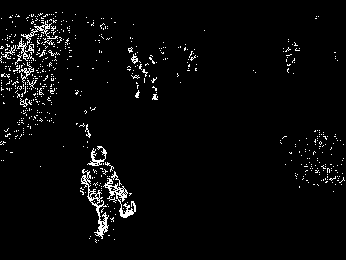person: (79, 146, 137, 239), (128, 53, 141, 99), (146, 57, 159, 103)
